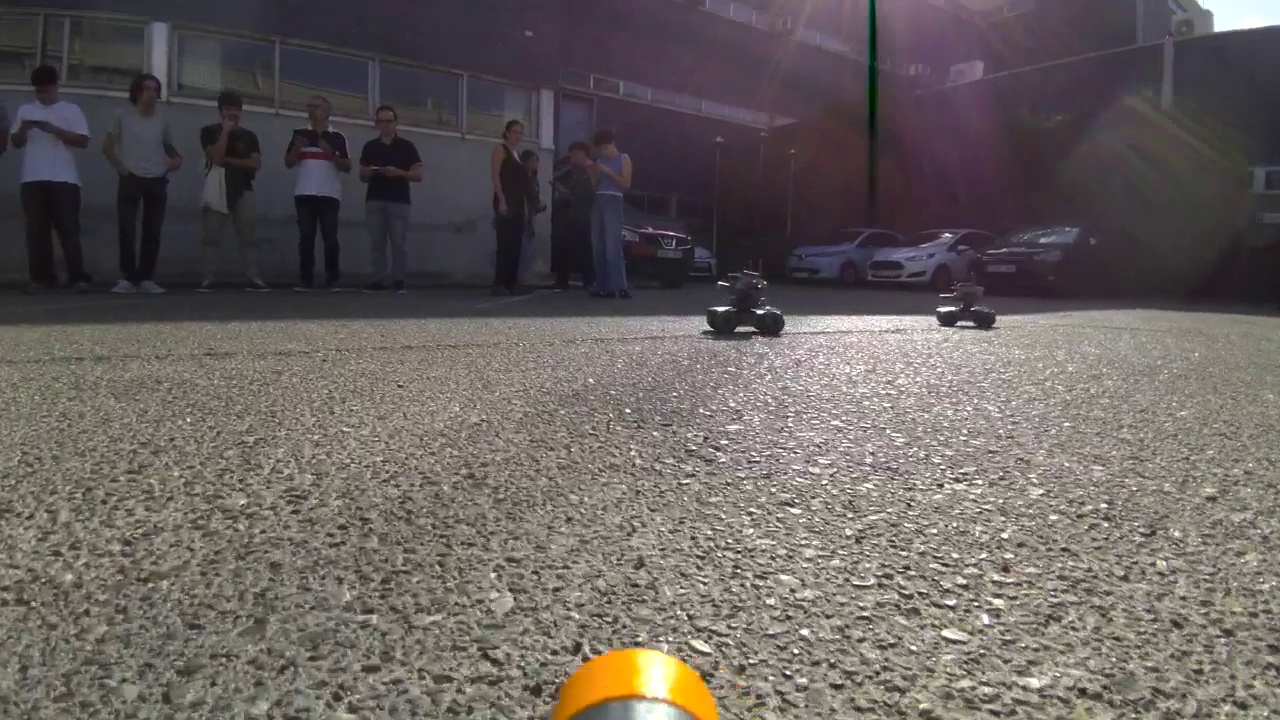robot: (702, 263, 793, 343), (934, 270, 1005, 330)
